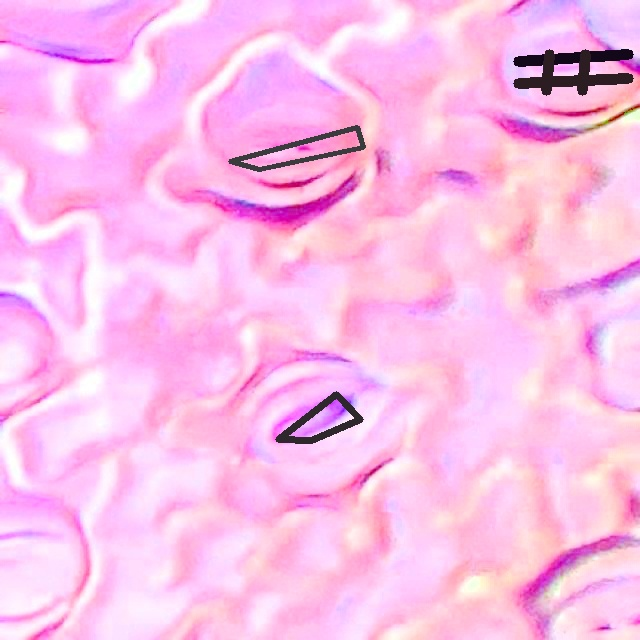close: (514, 50, 632, 95)
open: (228, 125, 365, 171), (276, 392, 362, 443)
